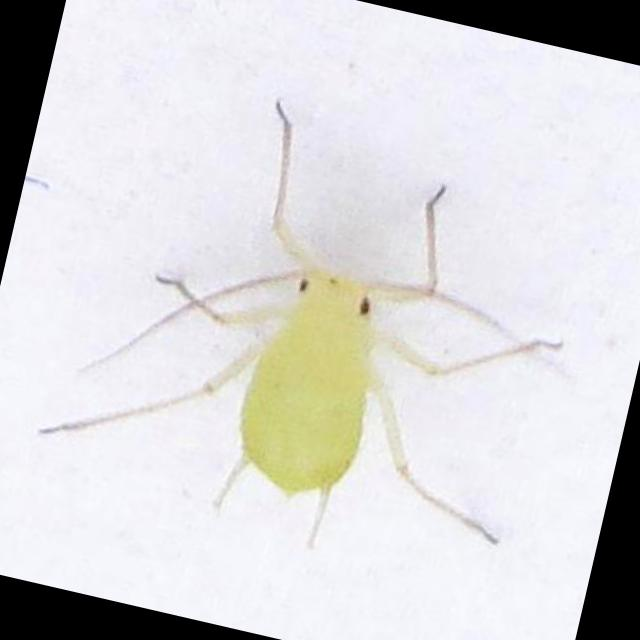Aphids: (30, 54, 594, 621)
